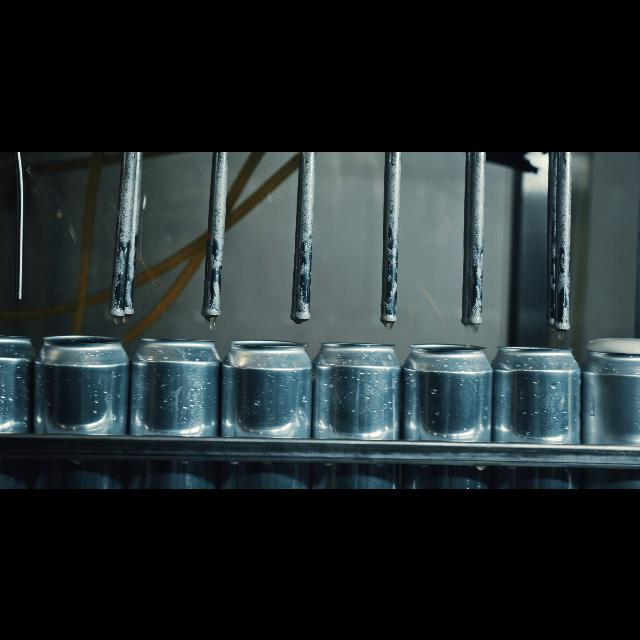empty: (38, 326, 122, 488), (134, 322, 214, 488), (318, 334, 404, 488), (406, 330, 484, 488), (230, 336, 310, 488), (501, 336, 573, 488), (3, 326, 31, 488)
full: (578, 322, 640, 488)
